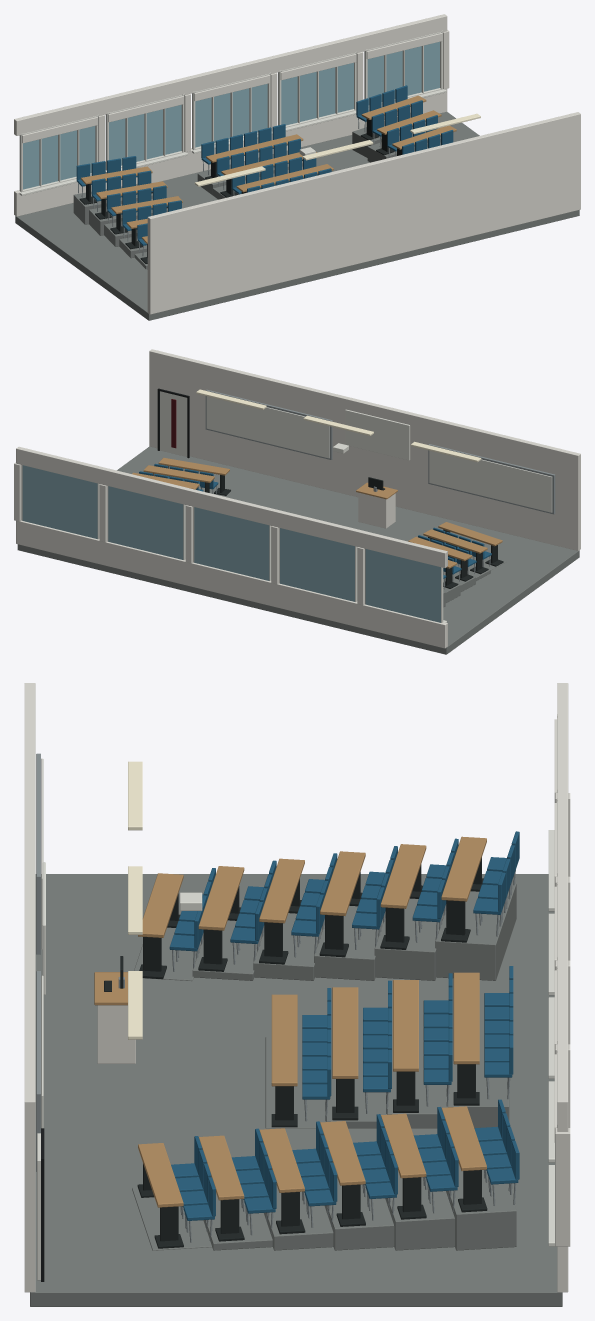
File: old-interior-db7fa8b91920.glb
3 renders of one model, top to bottom at view 1: azimuth 30°, elevation 25°; view 2: azimuth 150°, elevation 25°; view 3: azimuth 270°, elevation 25°, orthographic. The views are drawn at different scales.
Visible parts, largest first — view 1: OLD.001; view 2: OLD.001; view 3: OLD.001.
Boxes of the visible parts, x1,y1,x2,y2 form: OLD.001: (14,14,580,320); OLD.001: (14,349,580,654); OLD.001: (24,683,570,1306).
Bounding box in the file's own units: 16.06 × 3.66 × 8.82.
